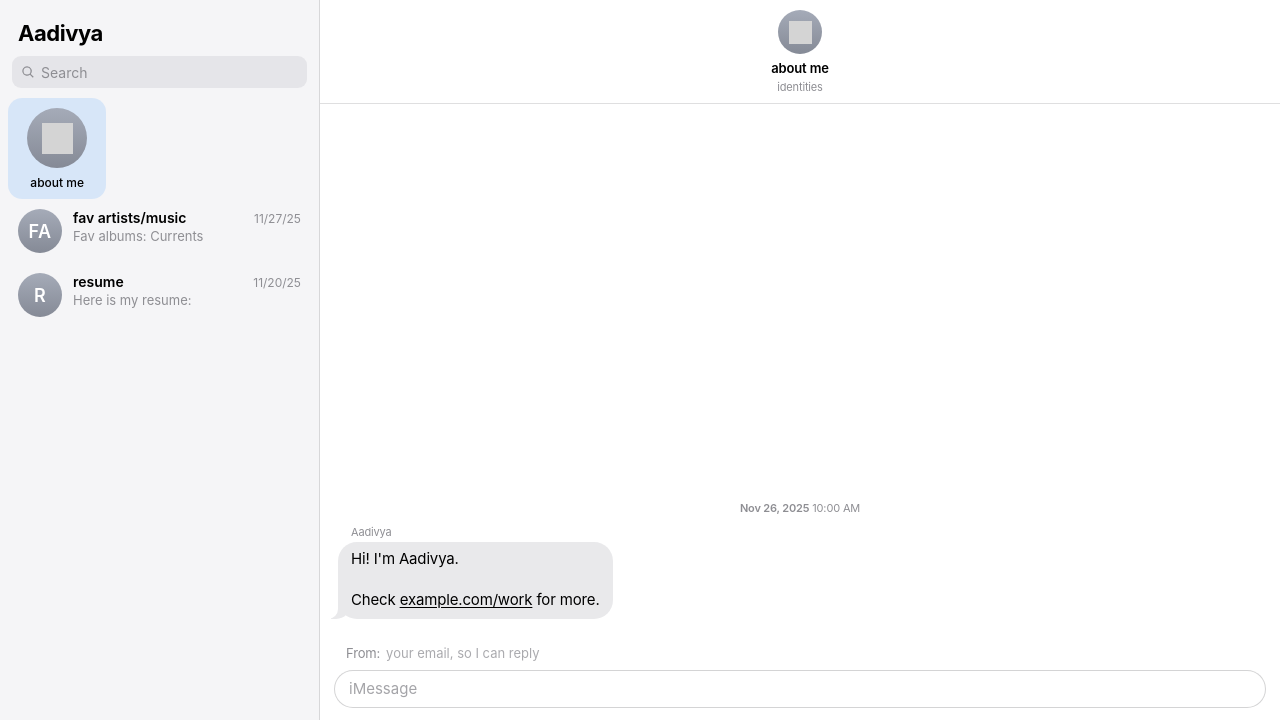
Test case: MessagesApp › tells the visitor what is missing instead of sending
The image size is (1280, 720).
Type "A long enough message here" into the text box with placeholder "iMessage".
click(788, 689); type("A long enough message here")  # box [349, 674, 1227, 704]
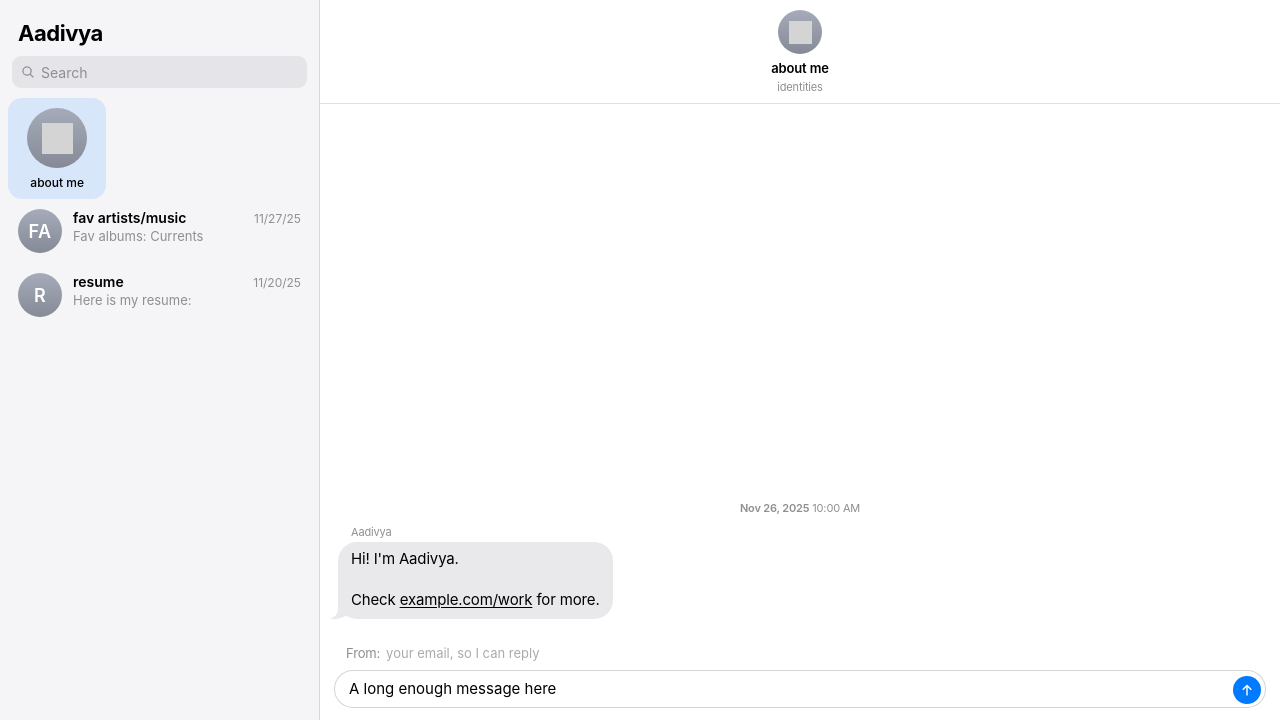
Click the button named "send".
click(1247, 690)  # box [1233, 676, 1261, 704]
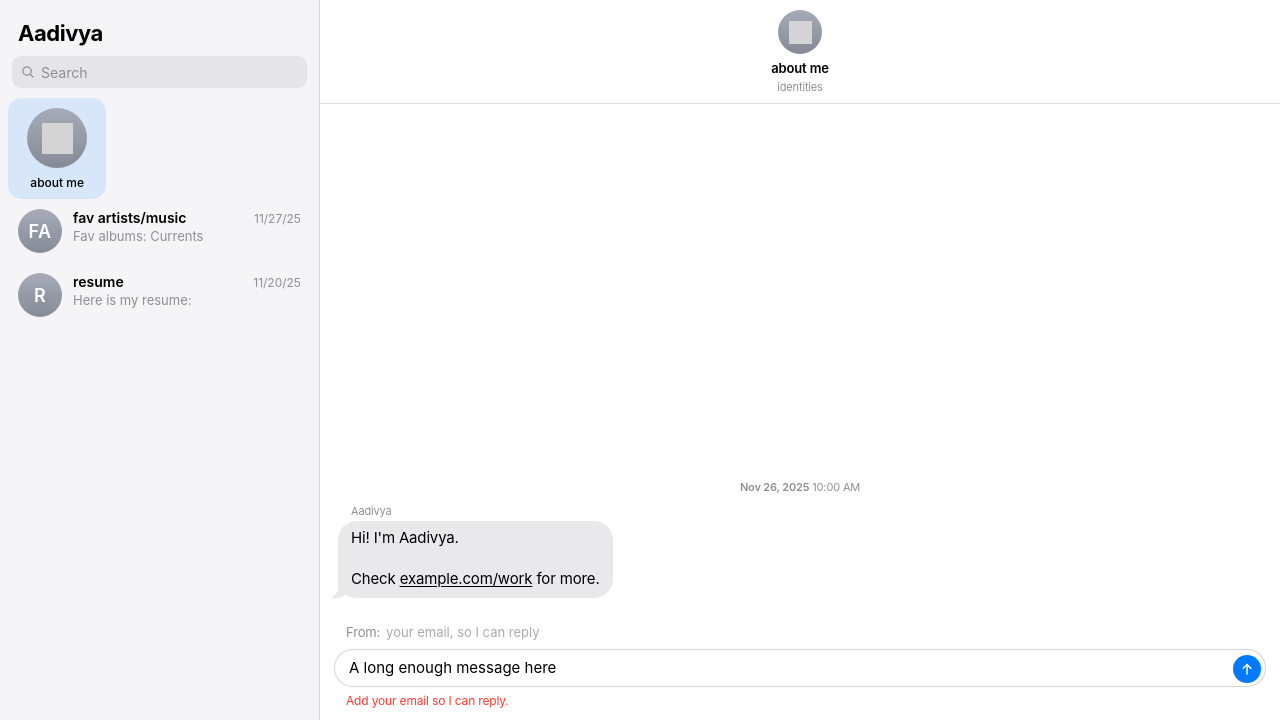
Now the message shows "Add your email", box [346, 693, 509, 708]
Type "visitor@example.com" into the field named "your email".
click(820, 632); type("visitor@example.com")  # box [386, 622, 1254, 642]
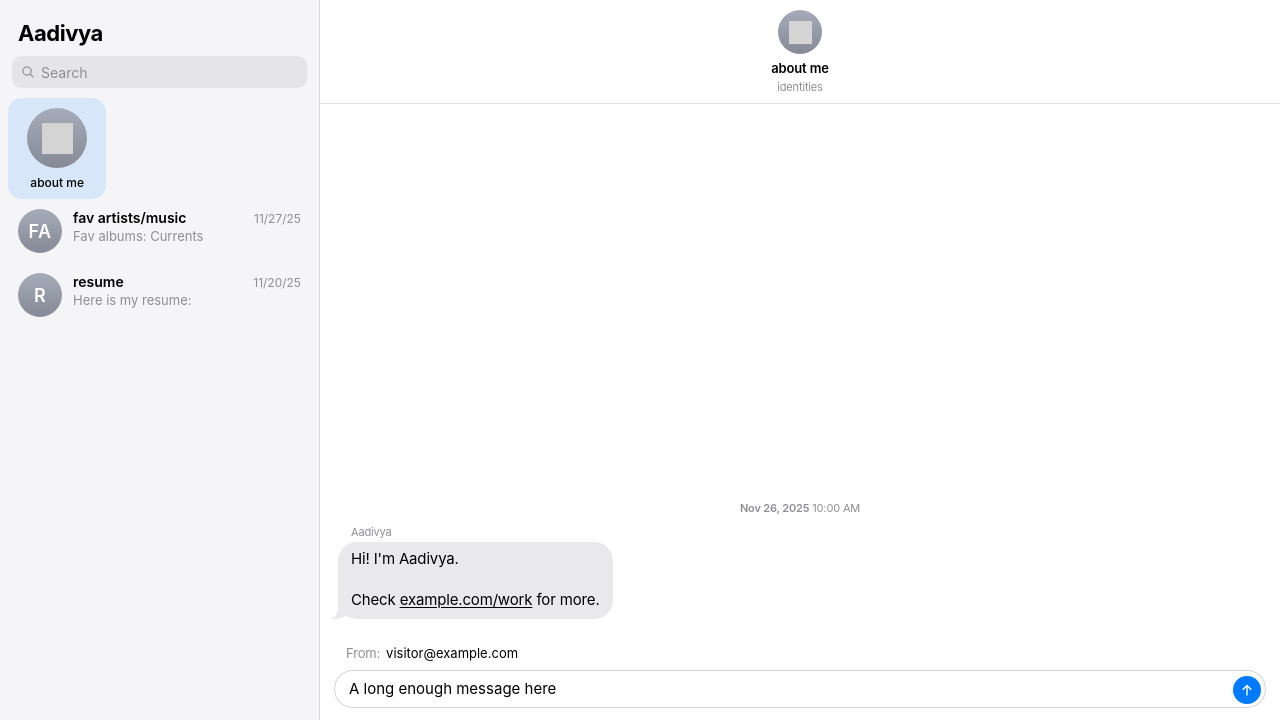
Replace the text in the text box with placeholder "iMessage" with "too short" at x=788, y=689, box [349, 674, 1227, 704]
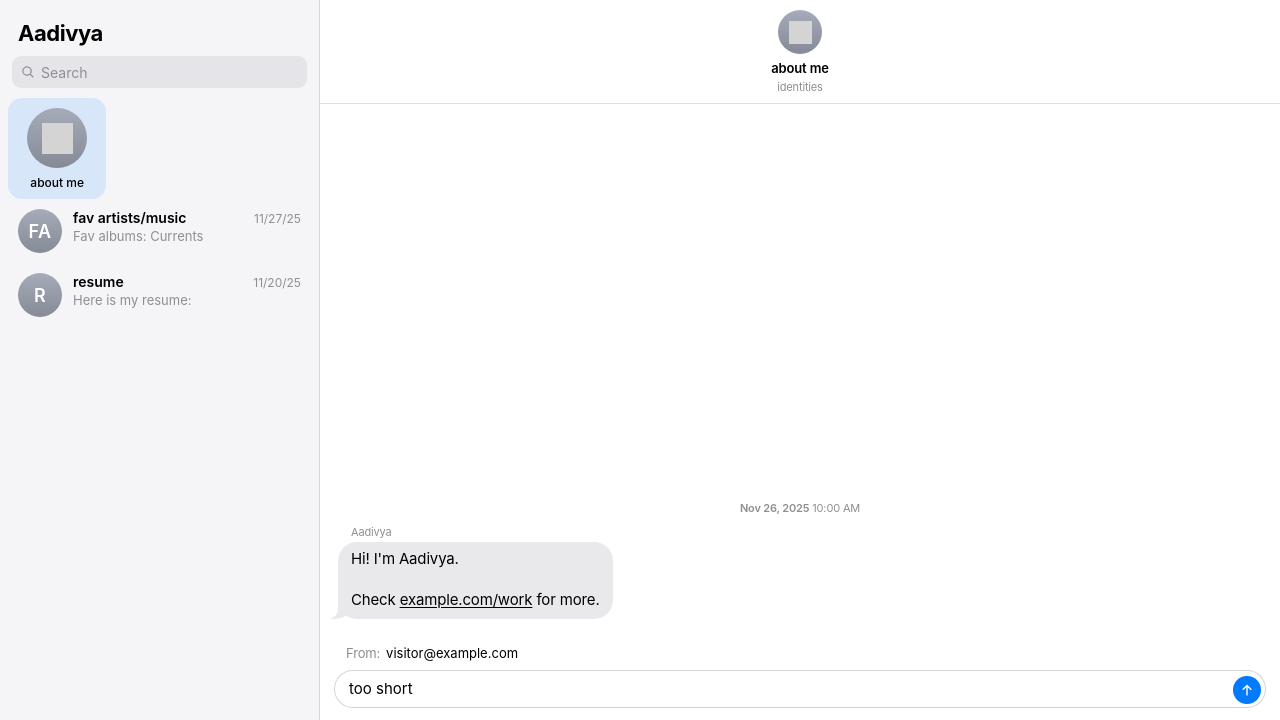
Click the button named "send".
click(1247, 690)  # box [1233, 676, 1261, 704]
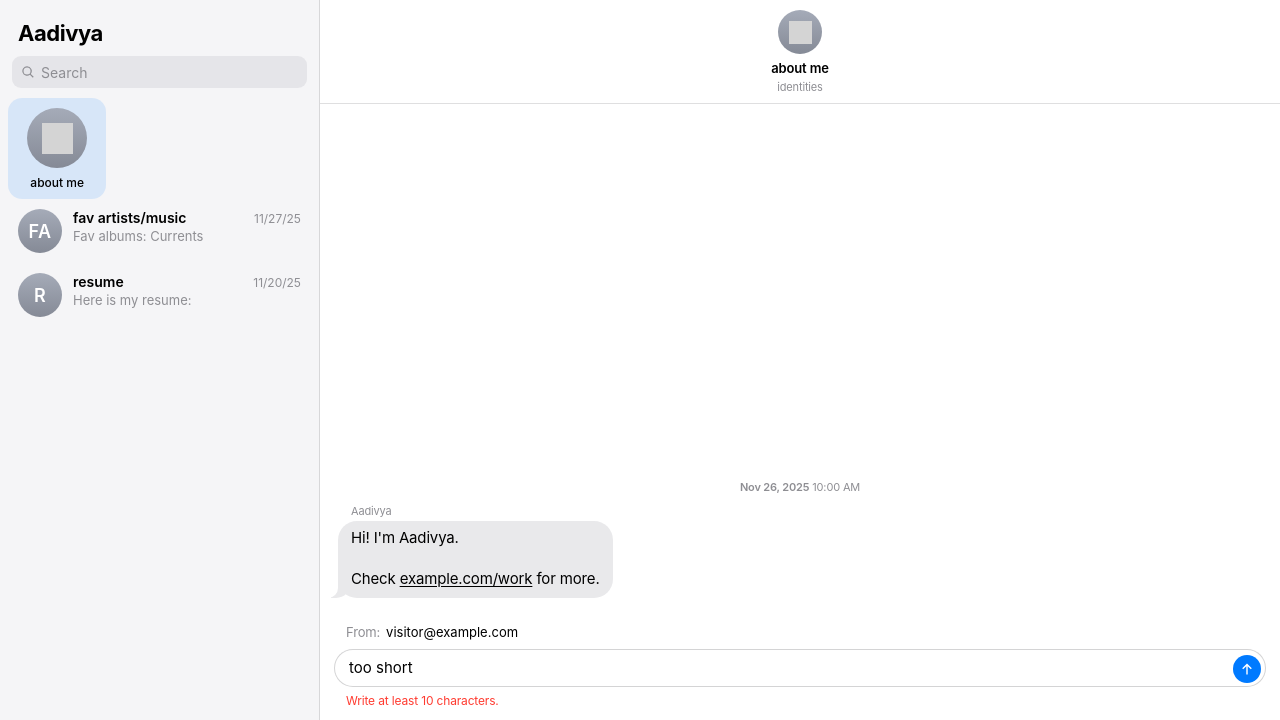
Now the message shows "at least 10 characters", box [346, 693, 499, 708]
